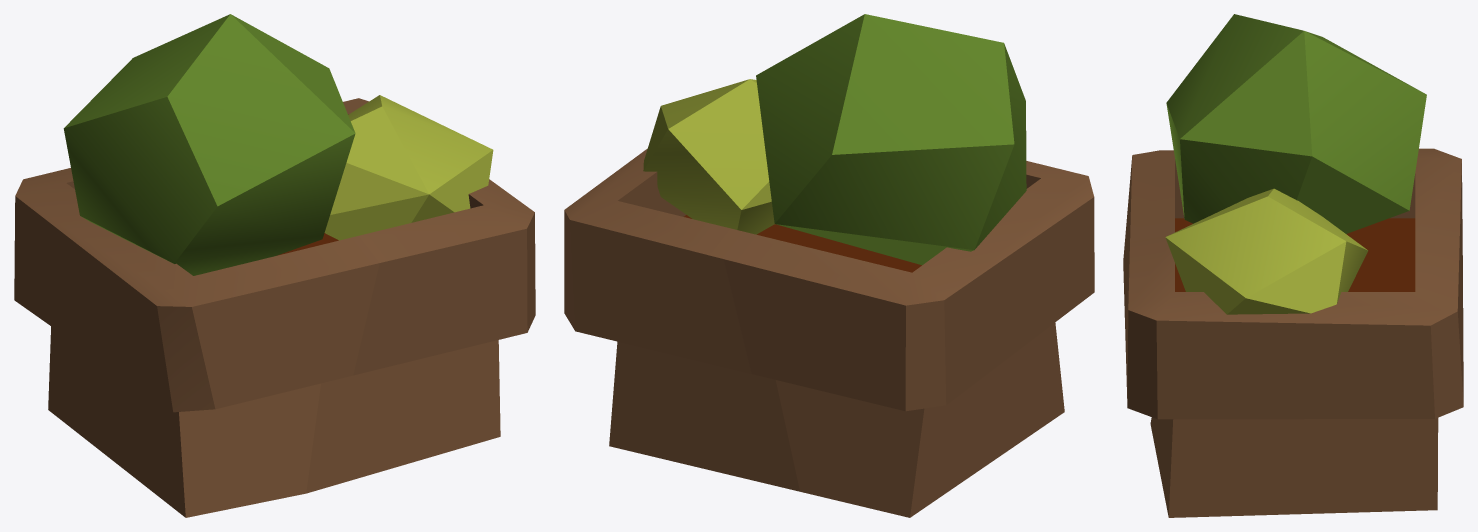
File: Shrub 3 Fractured.fbx
3 views of the same model, side by side, from view 1: azimuth 30°, elevation 25°; view 2: azimuth 150°, elevation 25°; view 3: azimuth 270°, elevation 25° (orthographic). The views are drawn at different scales.
Visible parts, largest first — view 1: Shrub_03_Breaking, Shrub_03_Breaking.001; view 2: Shrub_03_Breaking, Shrub_03_Breaking.001; view 3: Shrub_03_Breaking.001, Shrub_03_Breaking.
Part boxes in pixels (left/top/right/bottom): Shrub_03_Breaking: left=14, top=14, right=379, bottom=517; Shrub_03_Breaking.001: left=277, top=95, right=535, bottom=493; Shrub_03_Breaking: left=723, top=14, right=1094, bottom=517; Shrub_03_Breaking.001: left=564, top=79, right=841, bottom=491; Shrub_03_Breaking.001: left=1125, top=188, right=1463, bottom=517; Shrub_03_Breaking: left=1123, top=14, right=1463, bottom=422.
Bounding box in the file's own units: 58.59 × 60.23 × 46.97.
